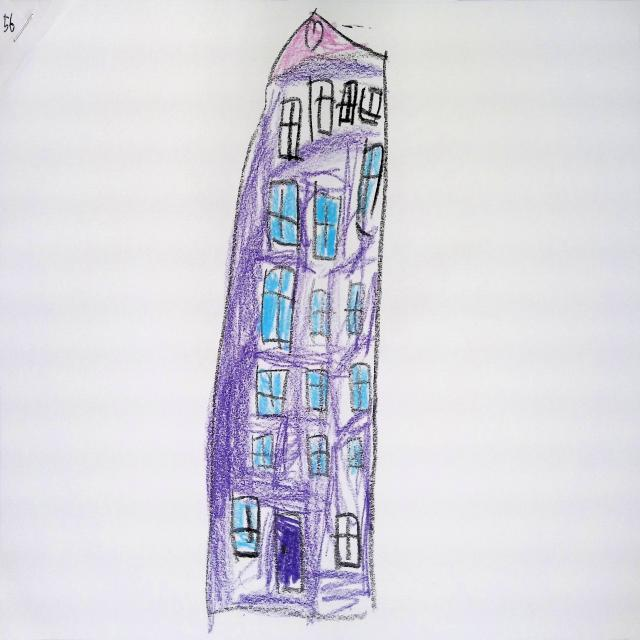door: (274, 509, 302, 594)
house: (207, 12, 387, 620)
roof: (271, 14, 356, 84)
wall: (208, 46, 385, 622)
window: (263, 268, 294, 351), (358, 144, 385, 232), (269, 181, 298, 245), (315, 192, 341, 259), (231, 497, 258, 558), (279, 97, 302, 159), (258, 372, 287, 416), (312, 76, 334, 134), (336, 514, 359, 569), (337, 80, 358, 125), (352, 364, 371, 411), (347, 284, 364, 335), (360, 87, 383, 124), (308, 436, 328, 477), (308, 371, 328, 411), (312, 290, 328, 337), (254, 436, 273, 468), (348, 439, 363, 469)
